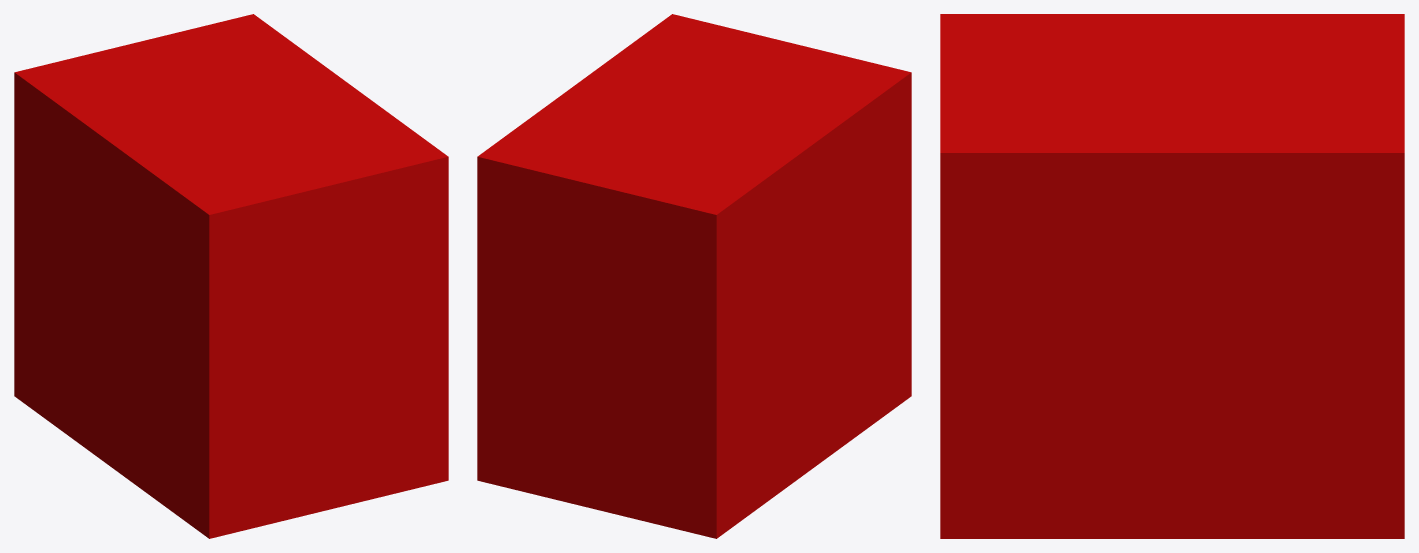
Rendered from talos_trunk_upper.dae.
The picture shows the model from 3 angles, left to right: view 1: azimuth 30°, elevation 25°; view 2: azimuth 150°, elevation 25°; view 3: azimuth 270°, elevation 25°; orthographic projection. The views are drawn at different scales.
Parts seen in each view (by area): view 1: trunk_upper; view 2: trunk_upper; view 3: trunk_upper.
Part boxes in pixels (left/top/right/bottom): trunk_upper: left=14, top=14, right=448, bottom=538; trunk_upper: left=477, top=14, right=911, bottom=538; trunk_upper: left=940, top=14, right=1404, bottom=538.
Size of the model in its own units: 0.34 by 0.48 by 0.44.
